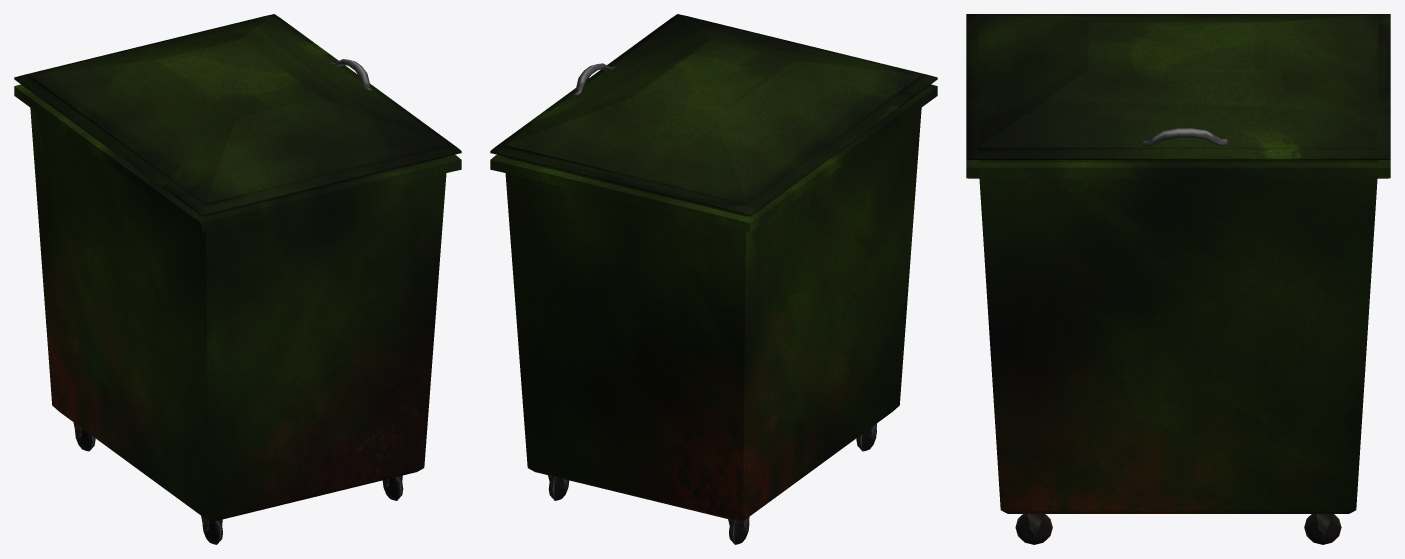
File: Trashbin_large.fbx
3 renders of one model, left to right at view 1: azimuth 30°, elevation 25°; view 2: azimuth 150°, elevation 25°; view 3: azimuth 270°, elevation 25°, orthographic. The views are drawn at different scales.
Parts seen in each view (by area): view 1: Roskis, Renkaat; view 2: Roskis, Renkaat; view 3: Roskis, Renkaat, Kahva.
Boxes of the visible parts, x1,y1,x2,y2 form: Roskis: (14, 14, 461, 522); Renkaat: (73, 422, 403, 544); Roskis: (490, 14, 937, 522); Renkaat: (548, 423, 876, 544); Roskis: (966, 14, 1390, 513); Renkaat: (1015, 514, 1341, 544); Kahva: (1143, 128, 1227, 145).
Bounding box in the file's own units: 85.27 × 124 × 106.
